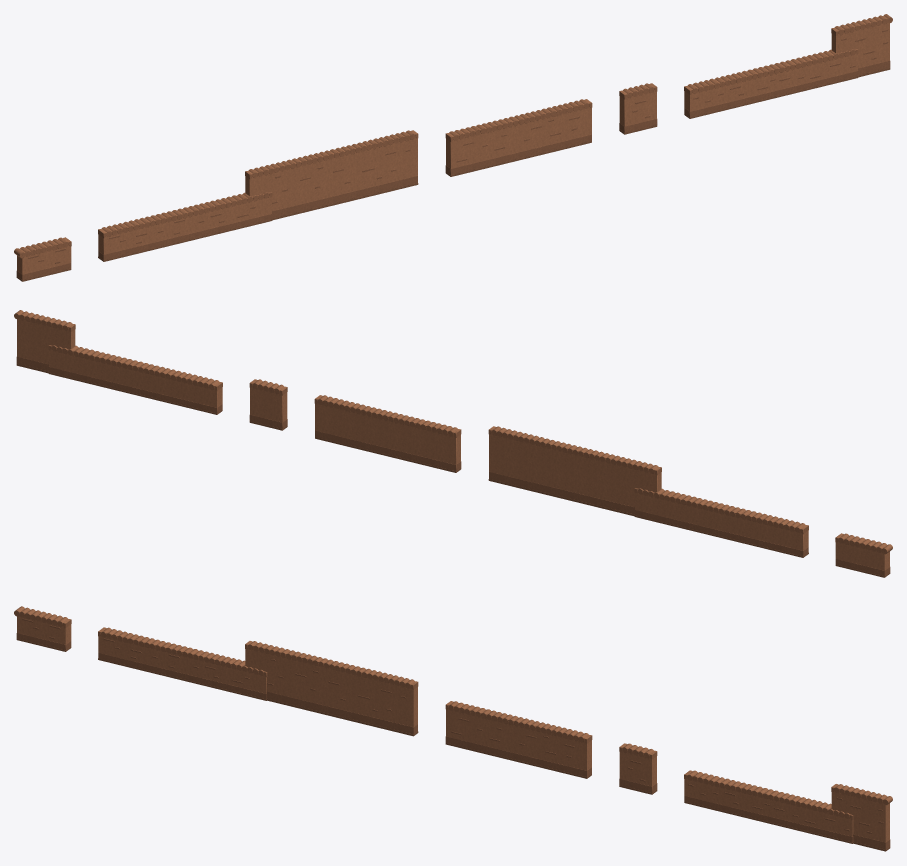
The model's file is grond_level1.glb.
3 renders of one model, top to bottom at view 1: azimuth 30°, elevation 25°; view 2: azimuth 150°, elevation 25°; view 3: azimuth 330°, elevation 25°, orthographic.
Visible parts, largest first — view 1: grond_L1_03, grond_L1_04, grond_L1_06, grond_L1_02, grond_L1_07, grond_L1_01, grond_L1_05; view 2: grond_L1_03, grond_L1_04, grond_L1_06, grond_L1_02, grond_L1_07, grond_L1_01, grond_L1_05; view 3: grond_L1_03, grond_L1_04, grond_L1_06, grond_L1_02, grond_L1_07, grond_L1_01, grond_L1_05.
Part boxes in pixels (x1,y1,x2,y2): grond_L1_03: (245, 130, 418, 220); grond_L1_04: (445, 99, 592, 176); grond_L1_06: (684, 49, 858, 118); grond_L1_02: (98, 192, 272, 261); grond_L1_07: (831, 14, 892, 77); grond_L1_01: (14, 237, 71, 281); grond_L1_05: (619, 83, 657, 134); grond_L1_03: (488, 426, 661, 516); grond_L1_04: (314, 395, 461, 472); grond_L1_06: (48, 345, 222, 414); grond_L1_02: (634, 488, 808, 557); grond_L1_07: (14, 310, 75, 373); grond_L1_01: (835, 533, 892, 577); grond_L1_05: (249, 379, 287, 430); grond_L1_03: (245, 641, 418, 736); grond_L1_04: (445, 701, 592, 778); grond_L1_06: (684, 770, 853, 843); grond_L1_02: (98, 627, 267, 700); grond_L1_07: (831, 784, 892, 851); grond_L1_01: (14, 606, 71, 651); grond_L1_05: (619, 743, 657, 794).
Size of the model in its own units: 96.61 by 5.52 by 1.13.
4 materials, 4 textured.
